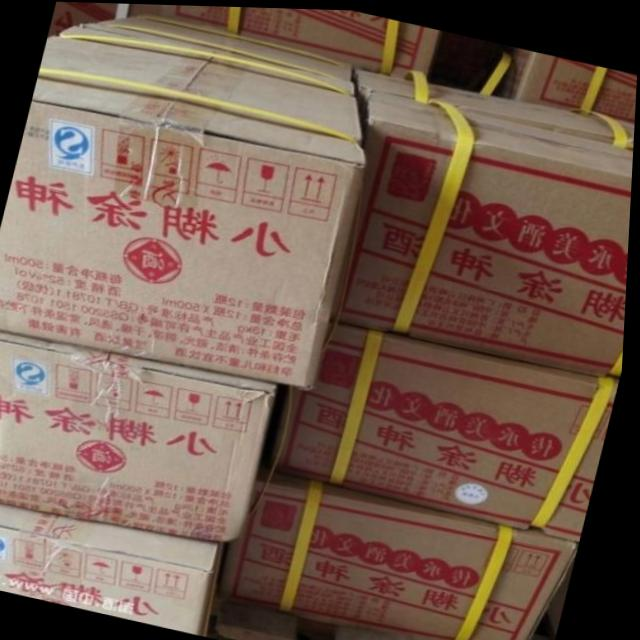box: (0, 24, 367, 389), (338, 87, 635, 378), (275, 318, 623, 539), (221, 468, 585, 640), (0, 332, 278, 543), (0, 504, 230, 636), (354, 65, 636, 143), (159, 4, 440, 77), (76, 12, 354, 81), (491, 42, 638, 119)
